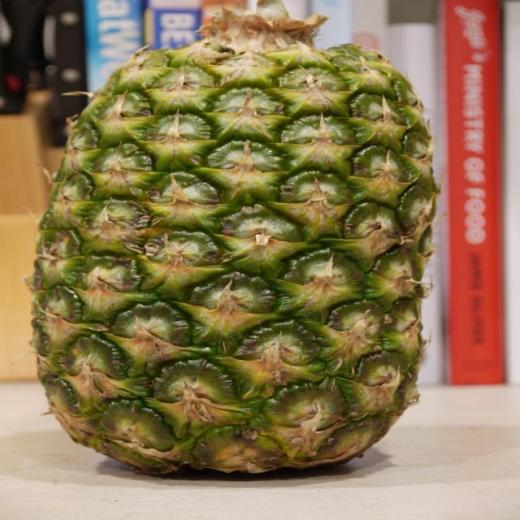Mango: (20, 0, 450, 476)
